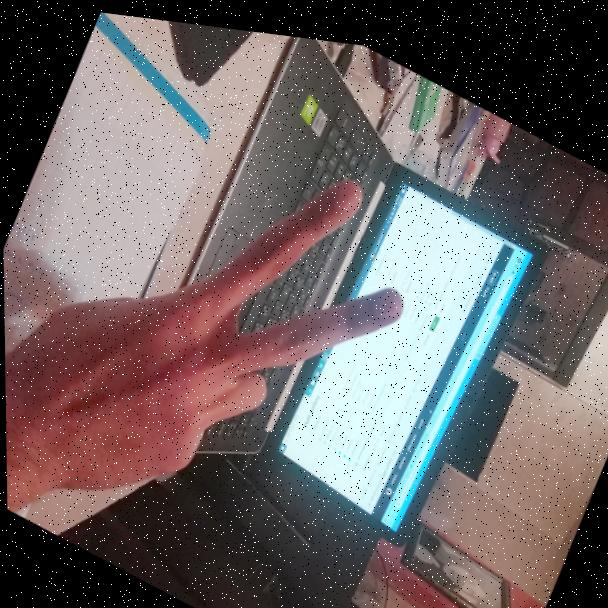two: (2, 52, 445, 605)
